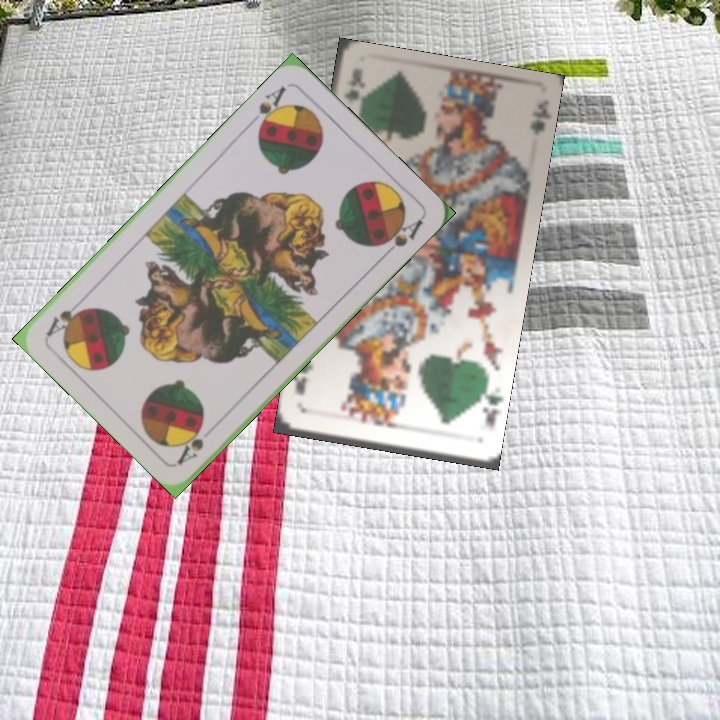GK: (474, 381, 502, 430), (340, 74, 366, 106)
SA: (253, 81, 289, 136), (173, 420, 207, 467)
